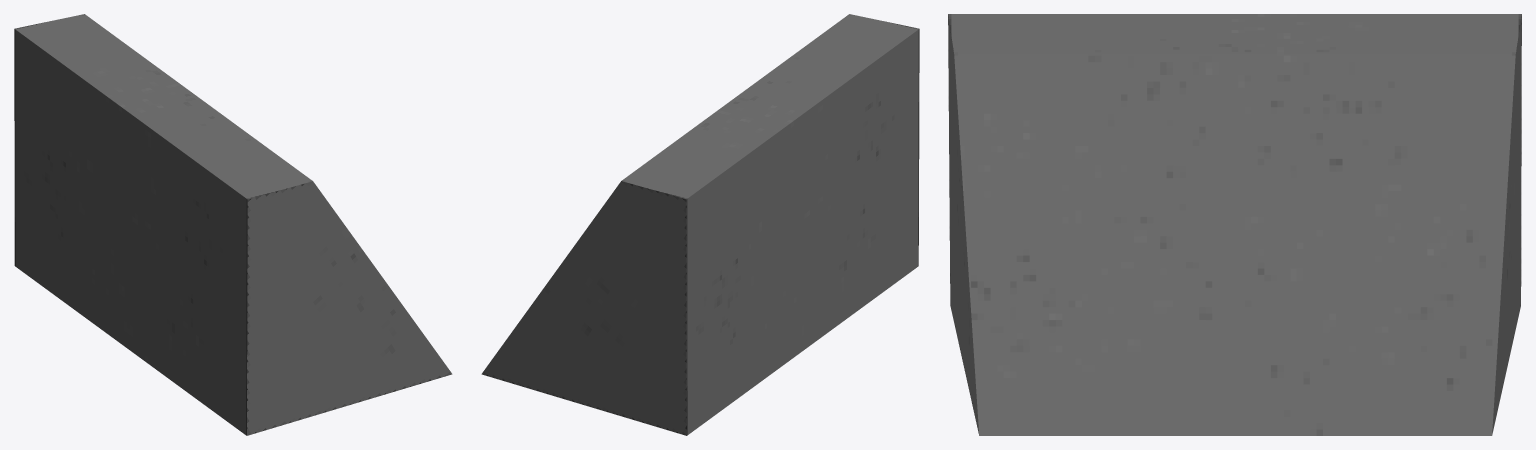
Rendered from Secret_Horizontal.fbx.
The picture shows the model from 3 angles, left to right: view 1: azimuth 30°, elevation 25°; view 2: azimuth 150°, elevation 25°; view 3: azimuth 270°, elevation 25°; orthographic projection. The views are drawn at different scales.
Parts seen in each view (by area): view 1: Wall_Secret_Door_East; view 2: Wall_Secret_Door_East; view 3: Wall_Secret_Door_East.
Boxes of the visible parts, x1,y1,x2,y2 form: Wall_Secret_Door_East: (14, 14, 452, 435); Wall_Secret_Door_East: (481, 14, 919, 435); Wall_Secret_Door_East: (948, 14, 1521, 435).
Bounding box in the file's own units: 288 × 300 × 535.
1 material, 1 textured.
